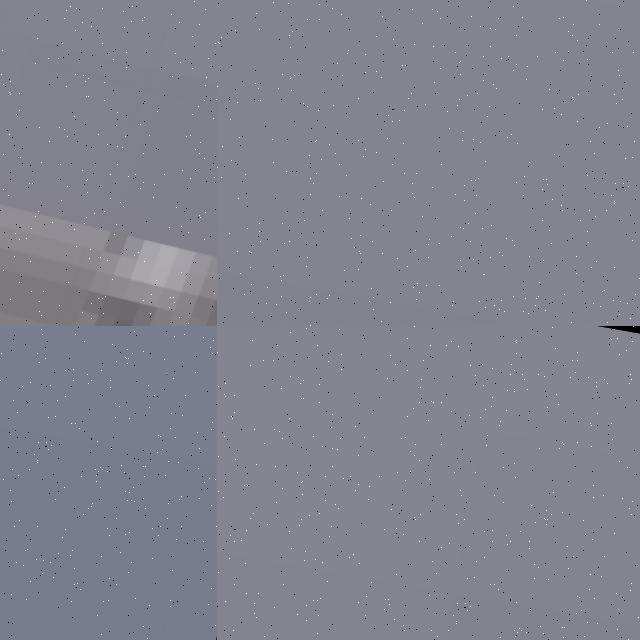drone: (0, 0, 217, 326)
